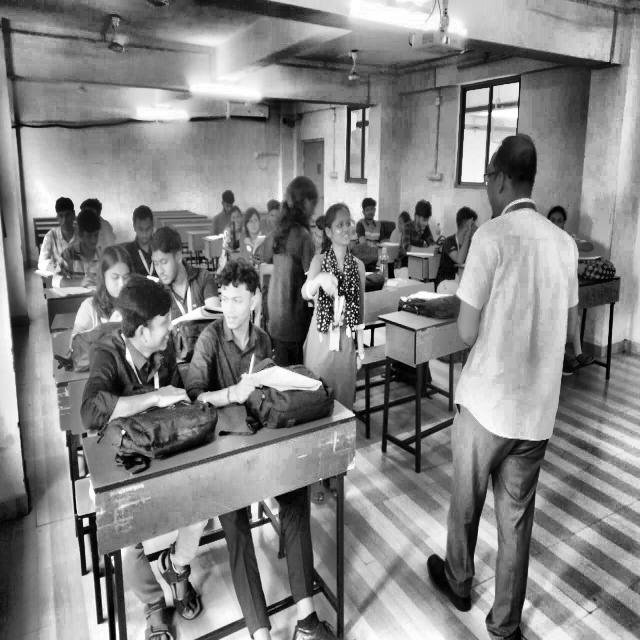Focus: (478, 122, 573, 325), (94, 210, 209, 306), (207, 166, 290, 273), (546, 185, 622, 282)
Not Focus: (104, 272, 305, 358), (286, 160, 391, 322), (408, 152, 497, 268), (54, 194, 100, 262)
